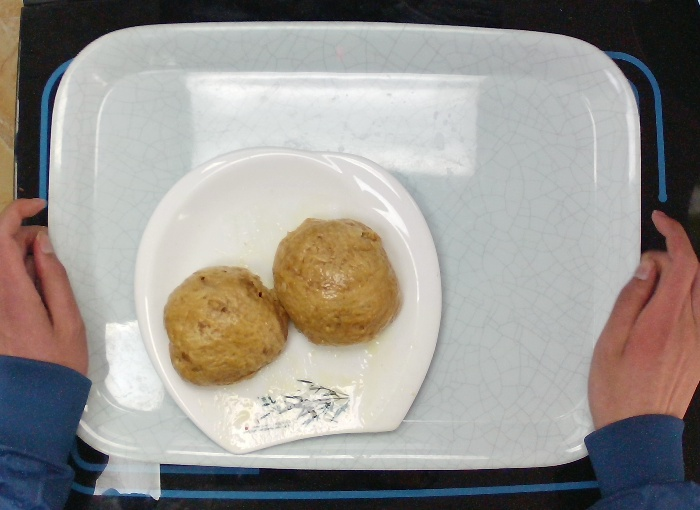JYsf-Mian_Pan: (133, 145, 446, 453)
